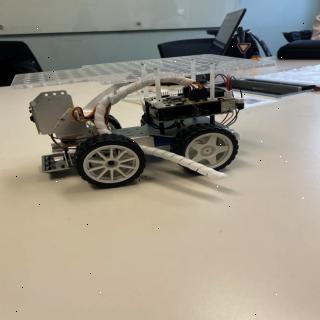vehicle: (13, 57, 259, 191)
